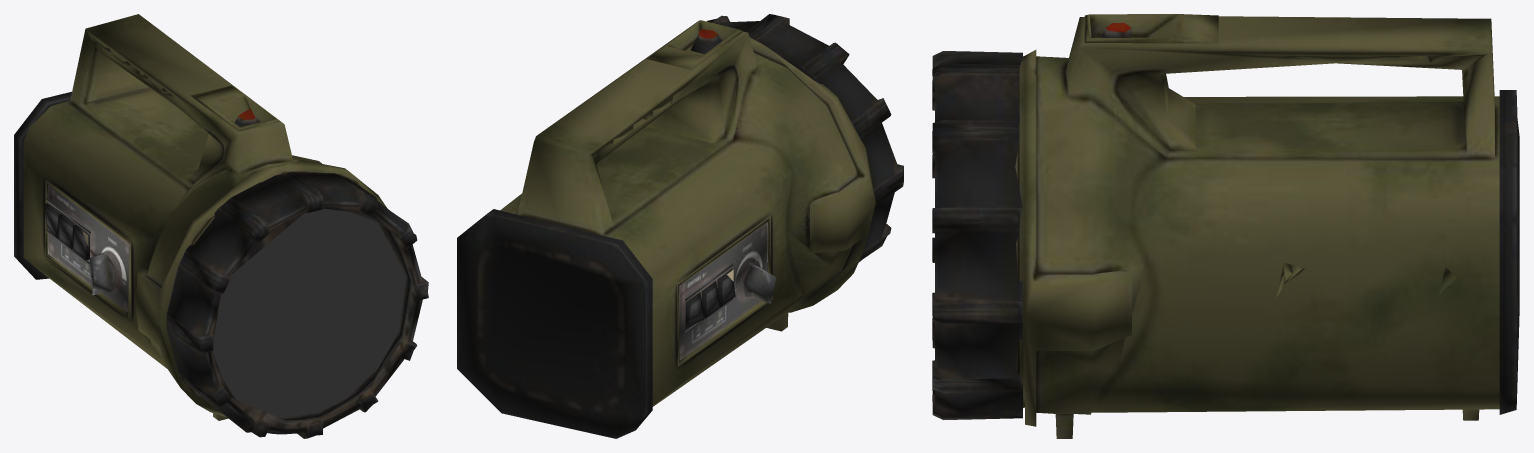
The model's file is portable_searchlight.glb.
The picture shows the model from 3 angles, left to right: view 1: azimuth 30°, elevation 25°; view 2: azimuth 150°, elevation 25°; view 3: azimuth 270°, elevation 25°; orthographic projection. The views are drawn at different scales.
Parts seen in each view (by area): view 1: portable_searchlight; view 2: portable_searchlight; view 3: portable_searchlight.
Boxes of the visible parts, box(x1,y1,x2,y2) form: portable_searchlight: box(14, 14, 428, 438); portable_searchlight: box(457, 14, 903, 438); portable_searchlight: box(932, 14, 1519, 438).
Size of the model in its own units: 0.1653 by 0.1849 by 0.2534.
2 materials, 2 textured.
